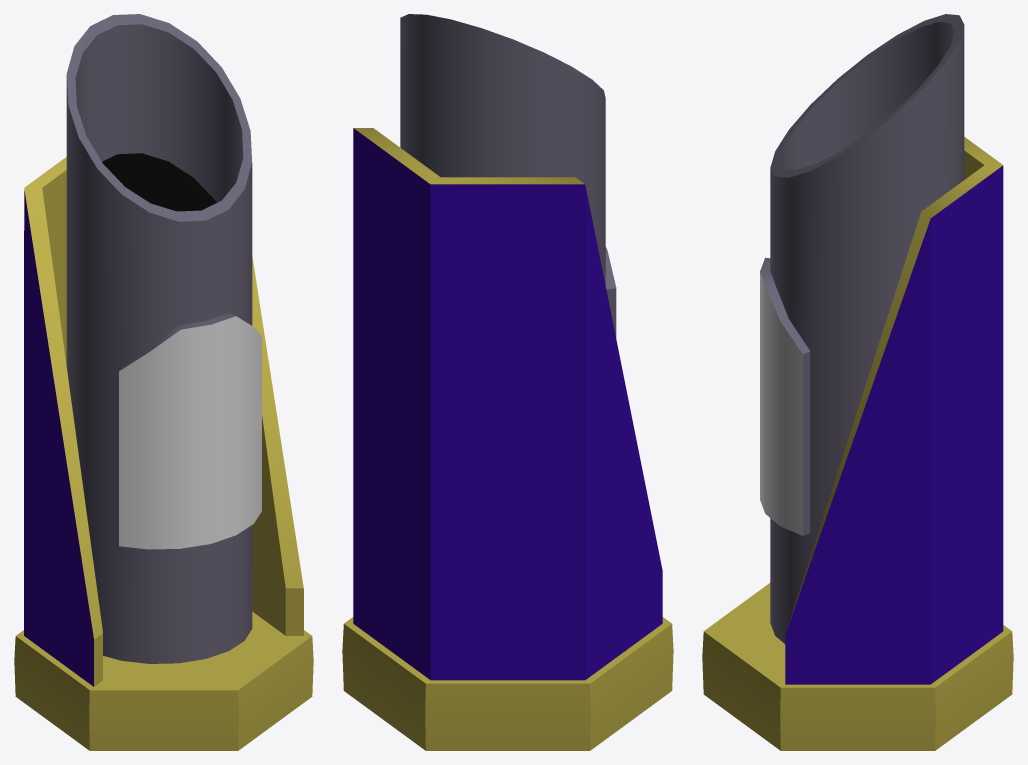
Rendered from Kepler3.FBX.
3 renders of one model, left to right at view 1: azimuth 30°, elevation 25°; view 2: azimuth 150°, elevation 25°; view 3: azimuth 270°, elevation 25°, orthographic. The views are drawn at different scales.
Visible parts, largest first — view 1: Kepler; view 2: Kepler; view 3: Kepler.
Boxes of the visible parts, box(x1,y1,x2,y2) form: Kepler: box(14, 14, 313, 750); Kepler: box(342, 14, 673, 750); Kepler: box(702, 14, 1013, 750).
Size of the model in its own units: 0.2781 by 0.7625 by 0.3211.
